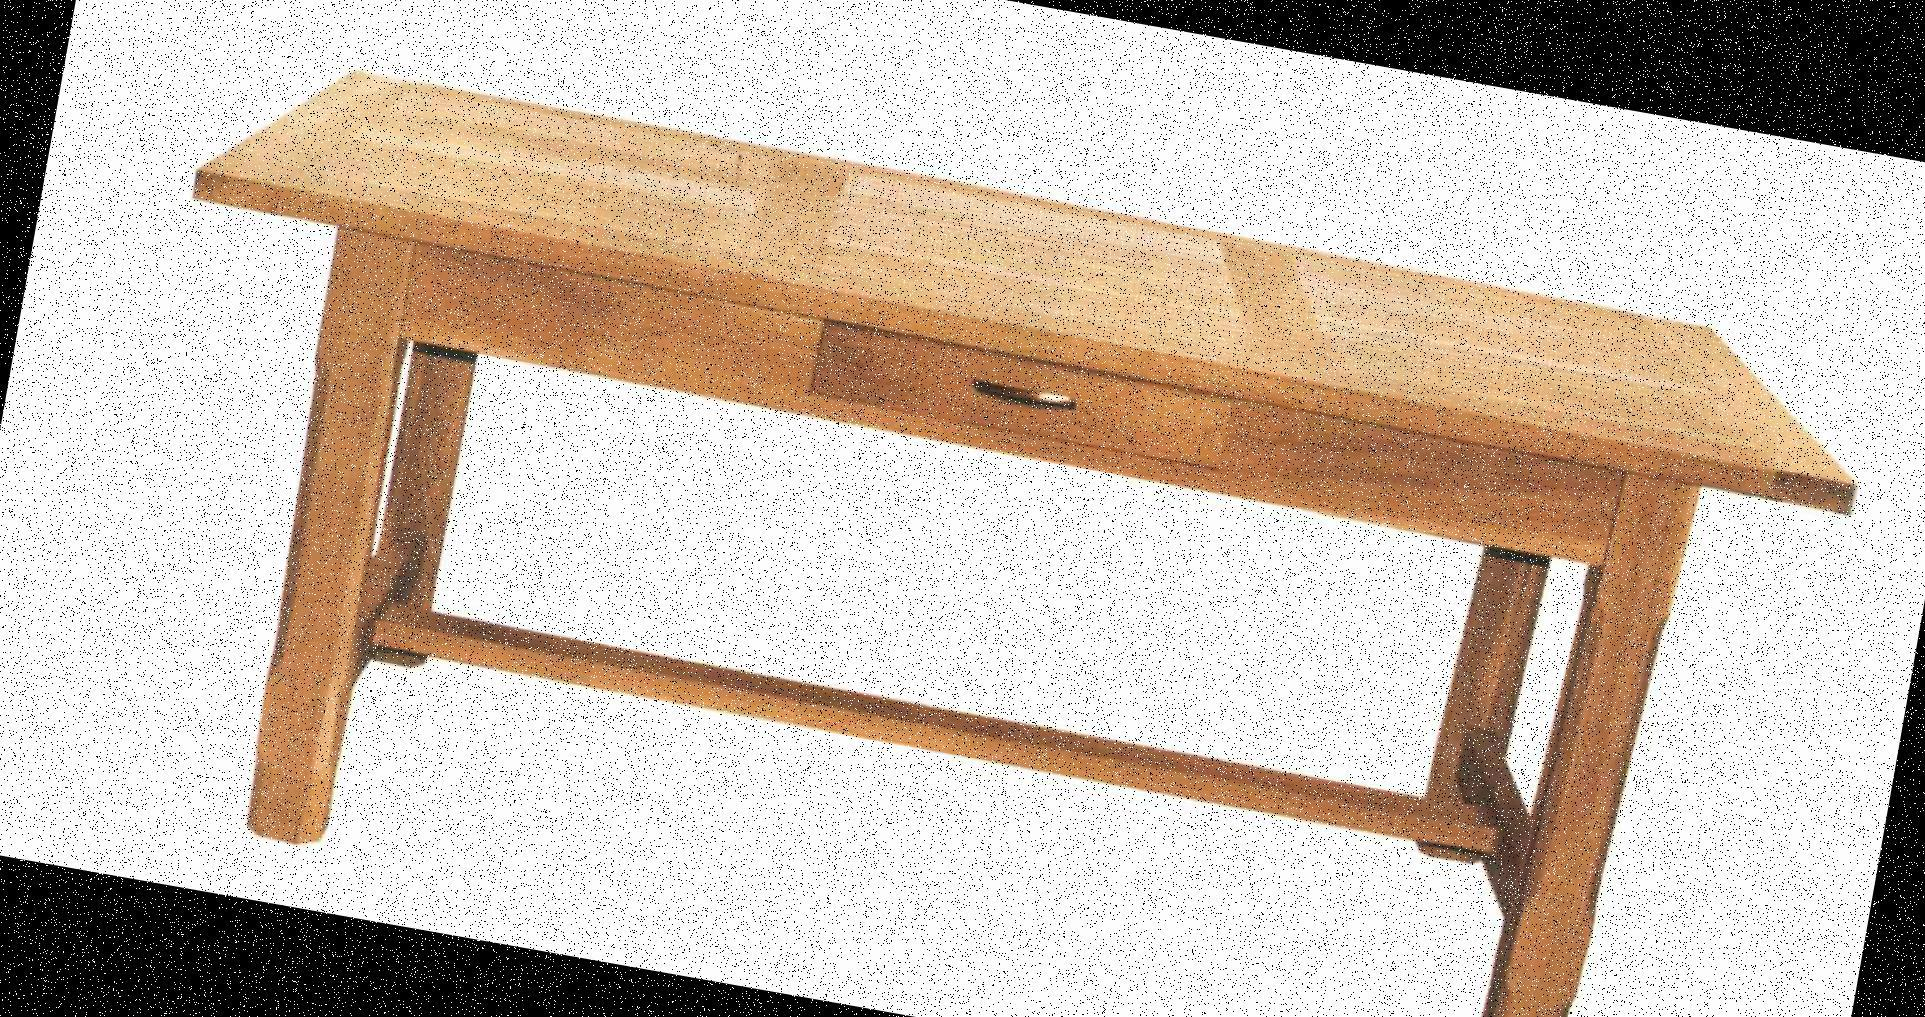Mesa: (81, 52, 1877, 1016)
